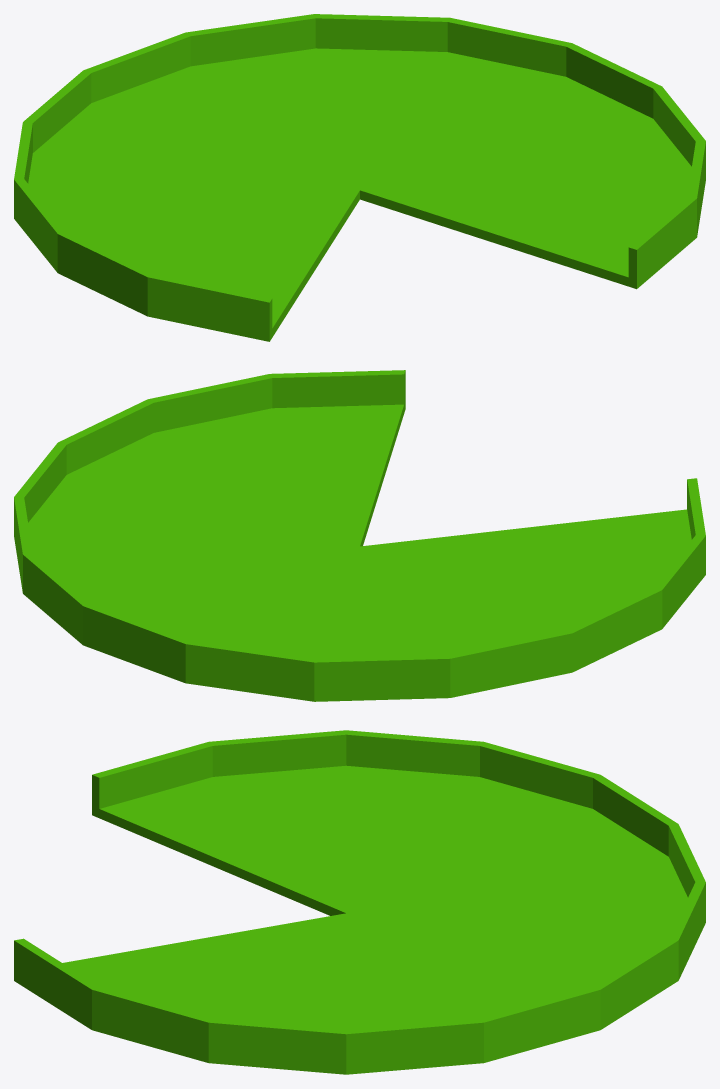
The model's file is lotusleaf_01.fbx.
3 renders of one model, top to bottom at view 1: azimuth 30°, elevation 25°; view 2: azimuth 150°, elevation 25°; view 3: azimuth 270°, elevation 25°, orthographic. The views are drawn at different scales.
Visible parts, largest first — view 1: Cylinder; view 2: Cylinder; view 3: Cylinder.
Part boxes in pixels (x1,y1,x2,y2): Cylinder: (14, 14, 705, 341); Cylinder: (14, 370, 705, 701); Cylinder: (14, 730, 705, 1074).
Size of the model in its own units: 200 by 12.42 by 192.
